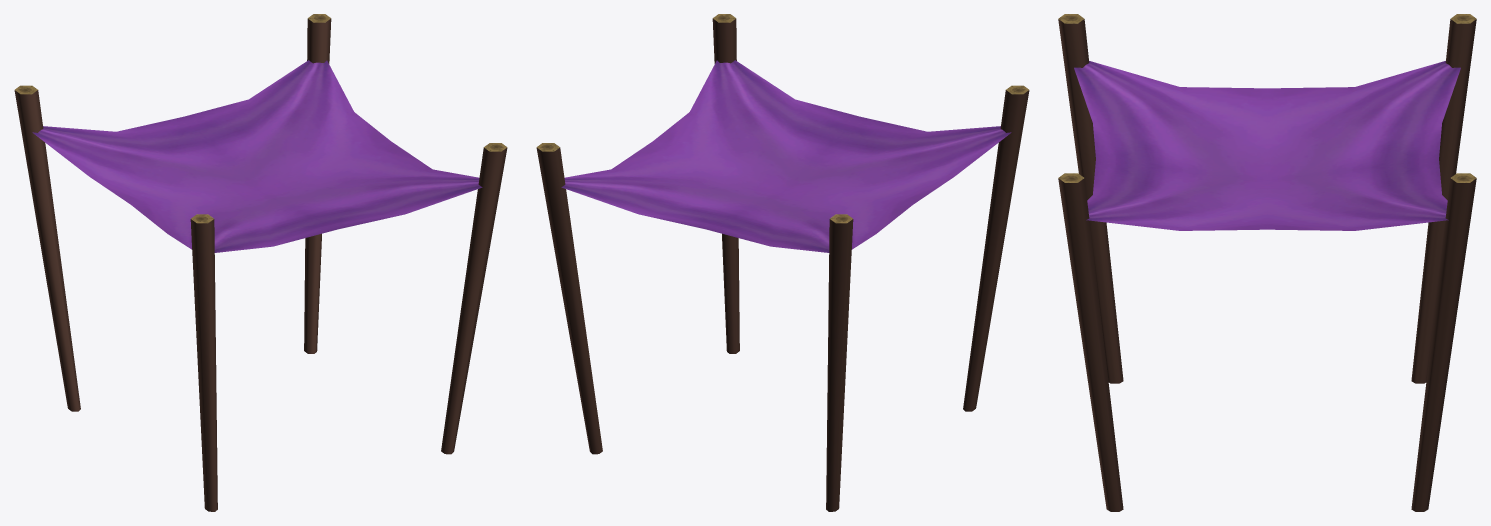
File: zhucheng_tanwei_4.FBX
3 views of the same model, side by side, from view 1: azimuth 30°, elevation 25°; view 2: azimuth 150°, elevation 25°; view 3: azimuth 270°, elevation 25° (orthographic). The views are drawn at different scales.
Visible parts, largest first — view 1: zhucheng_tanwei_4; view 2: zhucheng_tanwei_4; view 3: zhucheng_tanwei_4.
Boxes of the visible parts, bbox=[...] form: zhucheng_tanwei_4: bbox=[14, 14, 507, 511]; zhucheng_tanwei_4: bbox=[536, 14, 1029, 511]; zhucheng_tanwei_4: bbox=[1058, 14, 1476, 511].
Size of the model in its own units: 264 by 253 by 277.
